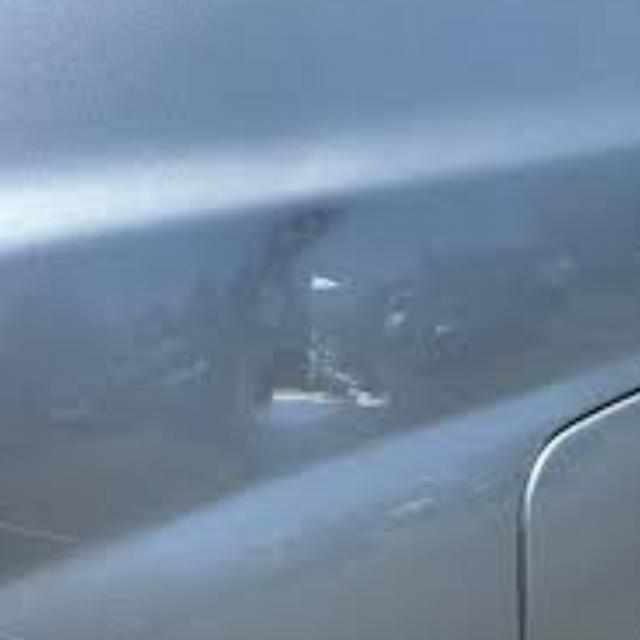dents: (244, 329, 403, 441)
